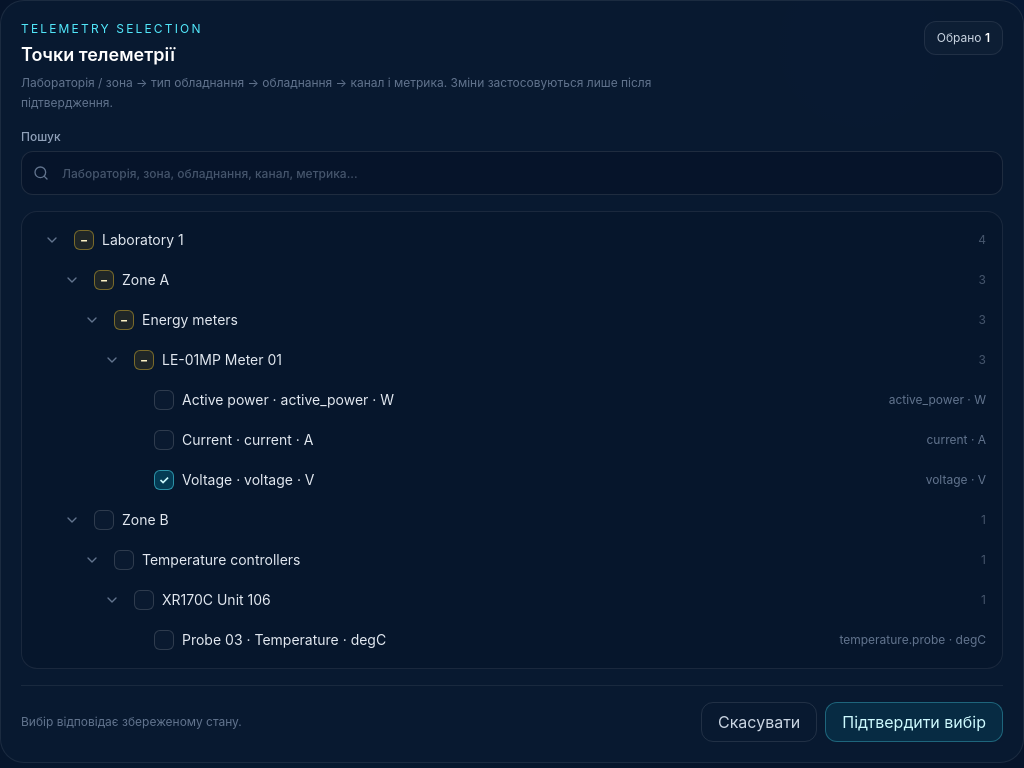
TelemetryPointSelector › exposes hierarchical ARIA state and restores committed selection on Cancel
Type "Current" into the search field labelled "Пошук" at (512, 173), box [21,151,1003,195]
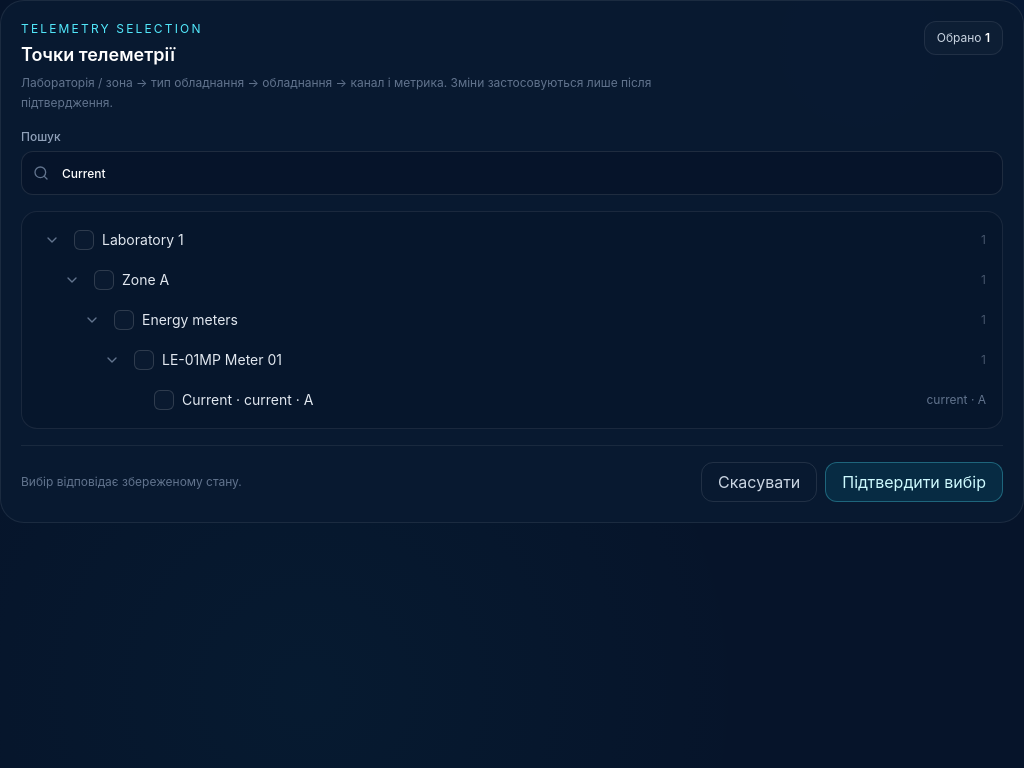
Check: the text "Voltage" is gone
Click the list item "Current · current · A current · A" at (248, 400), box [154,390,986,410]
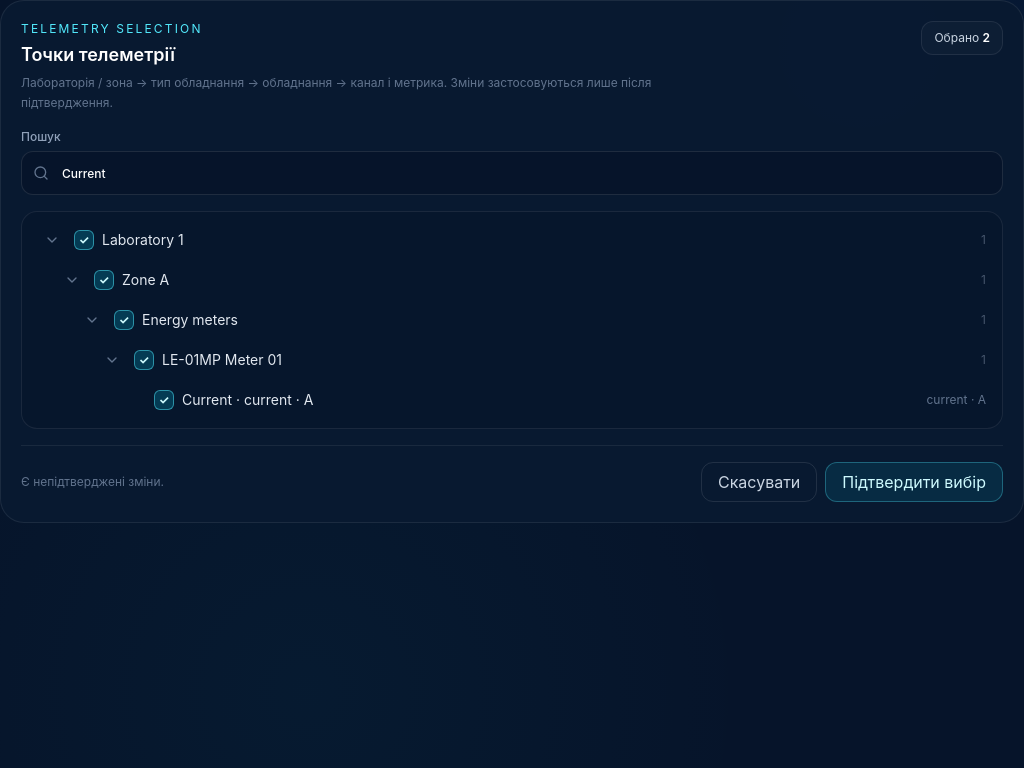
Check: the element with test id "telemetry-selection-count" shows "2", box [982,30,990,45]
Click the button "Скасувати" at (759, 482), box [701,462,817,502]
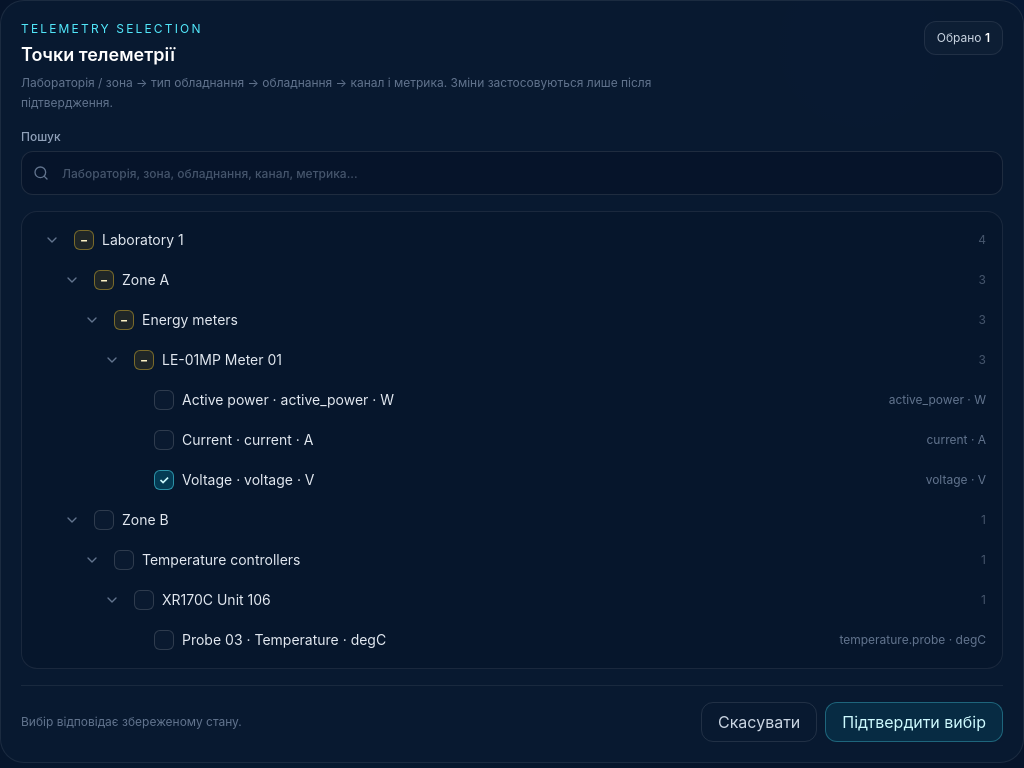
Check: the search field labelled "Пошук" is empty, box [21,151,1003,195]
Check: the element with test id "telemetry-selection-count" shows "1", box [985,30,990,45]
